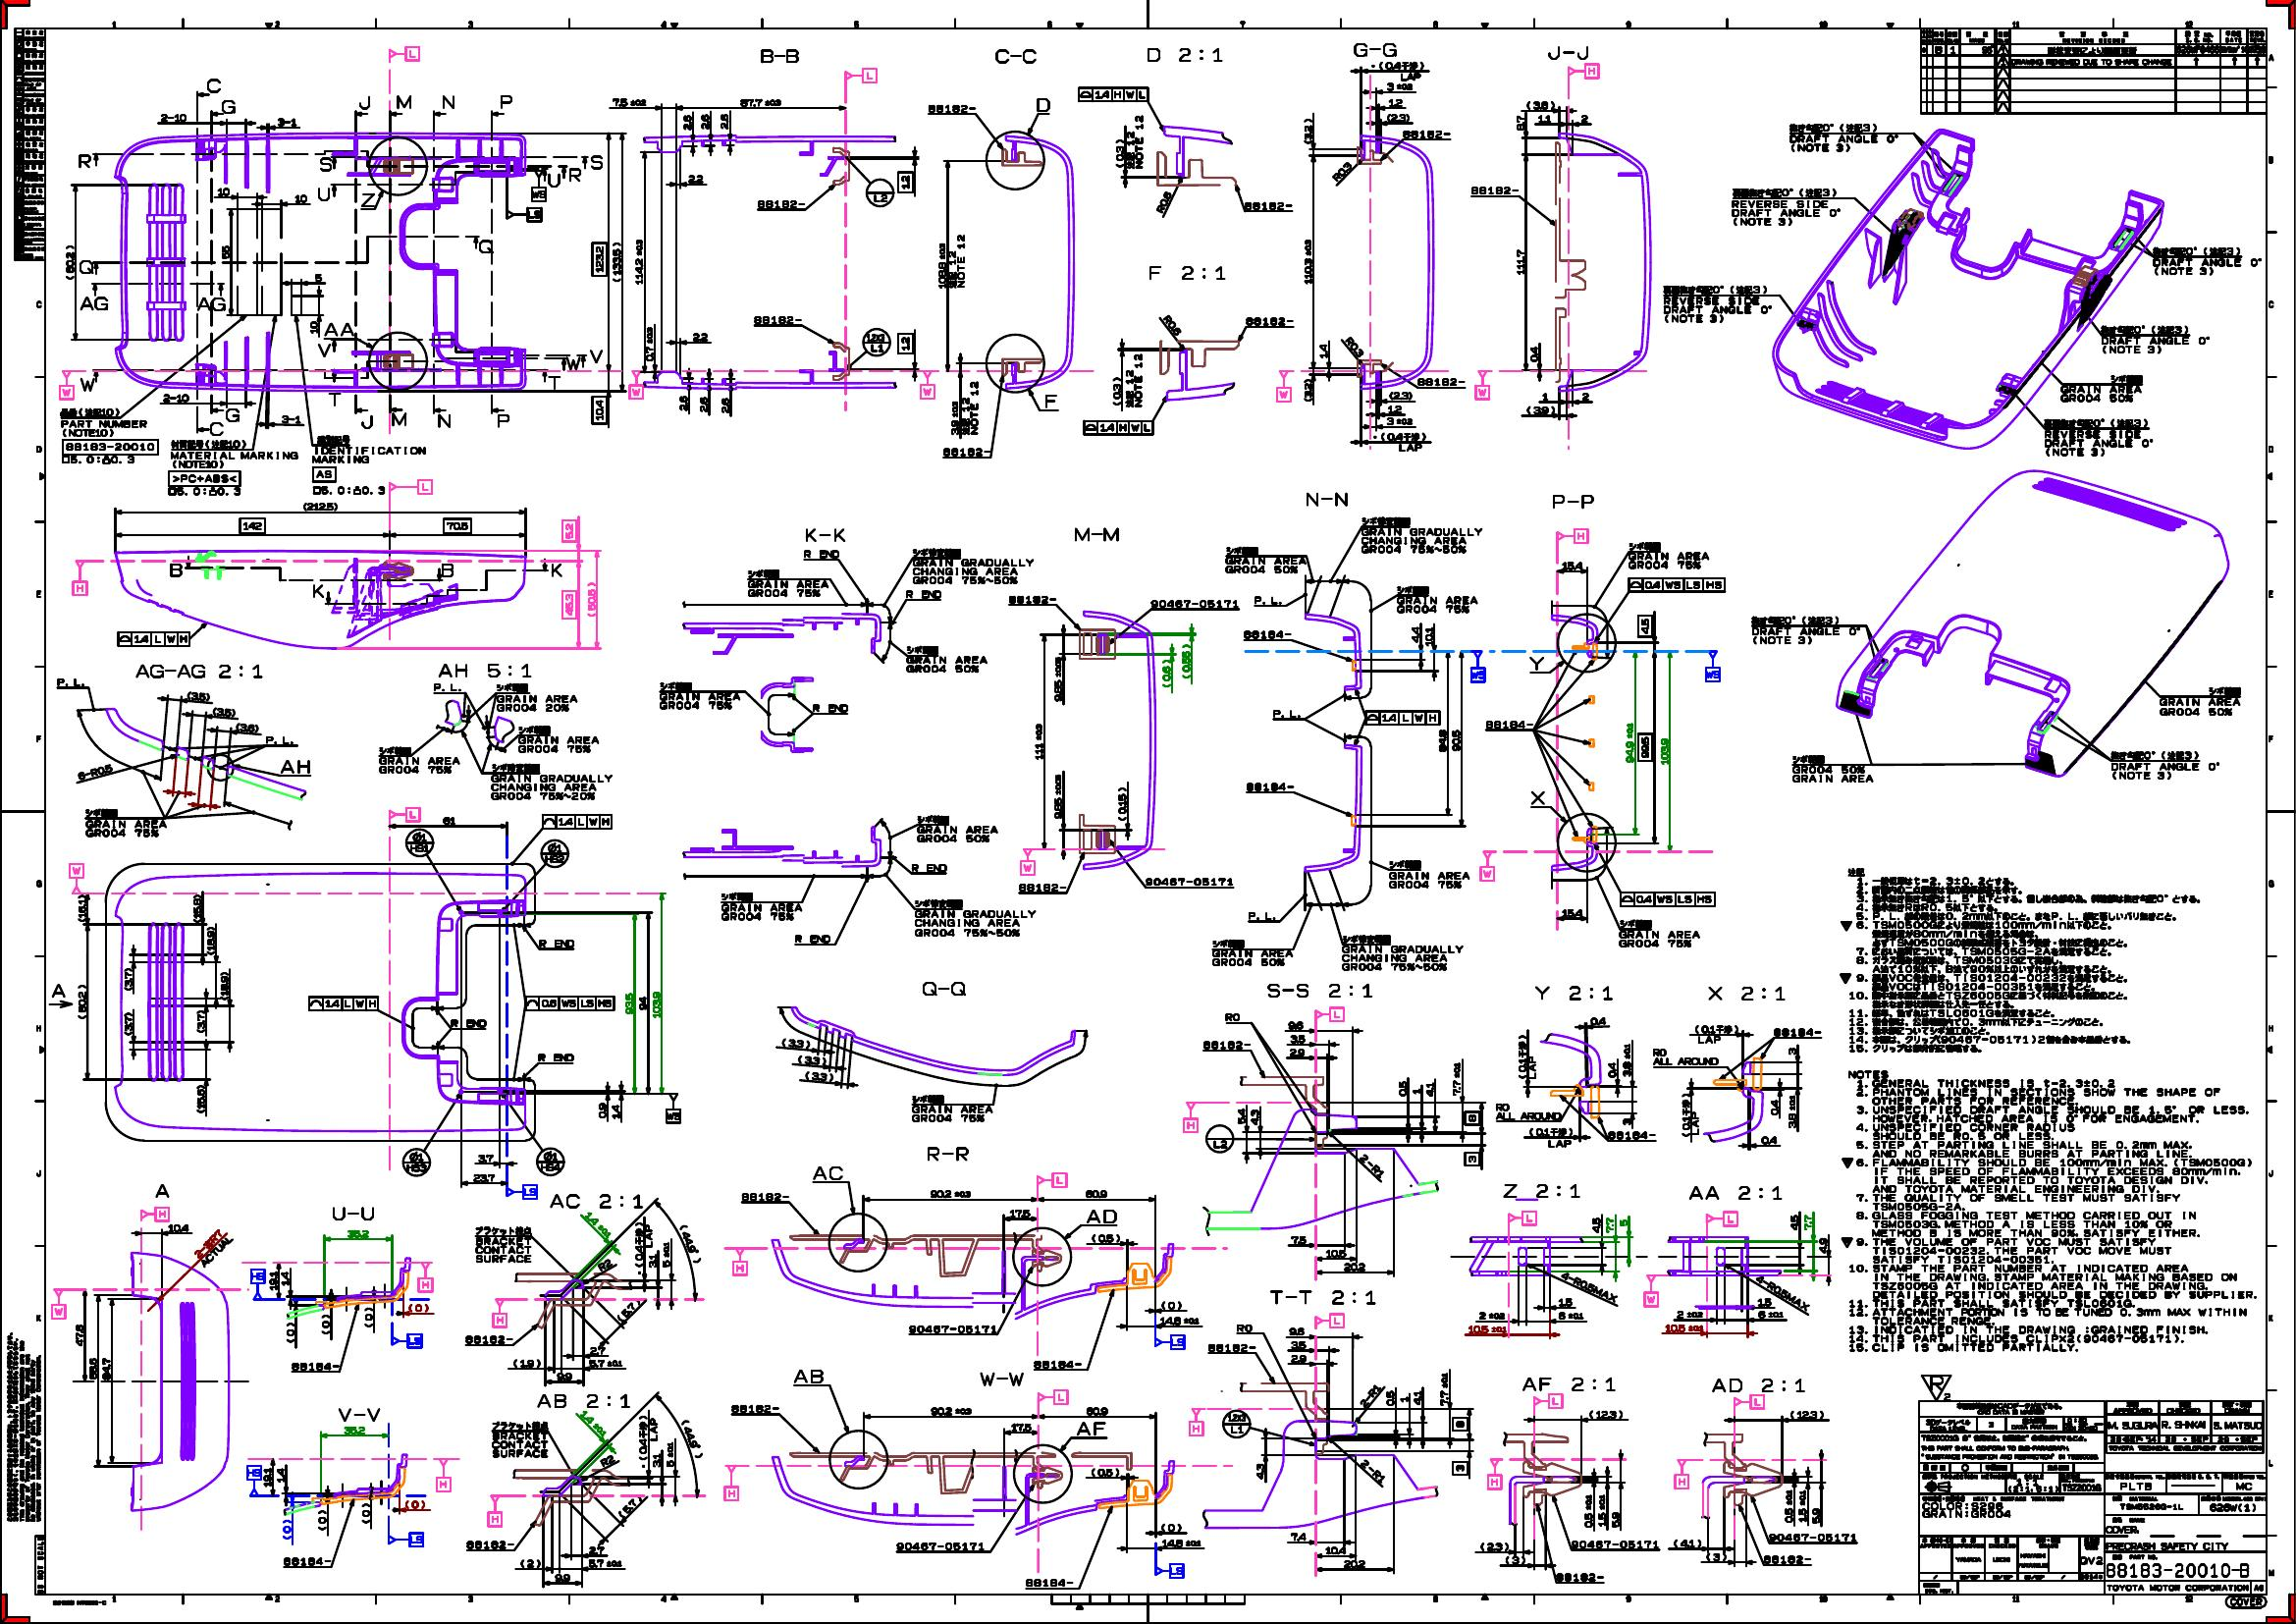anntotation_text: (1839, 1067, 2261, 1352), (1836, 863, 2203, 1056), (311, 432, 429, 497), (167, 439, 299, 497), (4, 1329, 42, 1522), (60, 406, 158, 464), (913, 898, 1038, 939), (1360, 515, 1483, 555), (488, 763, 615, 801), (1340, 933, 1465, 972), (2043, 418, 2154, 460), (1660, 283, 1774, 323), (912, 547, 1036, 584), (1730, 186, 1843, 227), (2110, 749, 2222, 782), (2099, 323, 2212, 355), (1750, 613, 1860, 645), (1788, 123, 1901, 153), (2150, 244, 2263, 274), (83, 805, 167, 838), (2061, 373, 2143, 406), (1618, 917, 1700, 951), (2157, 685, 2243, 717), (495, 682, 580, 714), (905, 643, 989, 675), (1388, 858, 1470, 889), (516, 724, 601, 754), (915, 814, 1000, 844), (657, 680, 741, 710), (1790, 754, 1874, 784), (720, 891, 803, 921), (747, 568, 829, 598), (132, 663, 265, 680), (378, 745, 460, 773), (1397, 585, 1479, 613), (912, 1093, 994, 1121), (1212, 939, 1293, 967), (1224, 547, 1305, 575), (490, 1420, 548, 1459), (1625, 541, 1709, 568), (1268, 1287, 1377, 1306), (1265, 981, 1374, 1000), (474, 1225, 531, 1262), (1709, 1374, 1808, 1394), (1145, 262, 1224, 283), (1688, 1185, 1783, 1202), (1650, 1044, 1722, 1067), (1627, 576, 1725, 592), (1145, 46, 1224, 65), (536, 1394, 631, 1410), (437, 663, 532, 678), (1621, 891, 1716, 907), (1523, 1376, 1616, 1392), (550, 1193, 641, 1209), (1534, 984, 1614, 1002), (1706, 984, 1787, 1002), (523, 995, 613, 1011), (1500, 1183, 1583, 1199), (1765, 1529, 1857, 1543), (908, 1322, 998, 1336), (1372, 431, 1426, 453), (632, 1220, 653, 1276), (1495, 1102, 1562, 1120), (116, 631, 190, 647), (959, 380, 978, 438), (1079, 86, 1149, 102), (307, 995, 378, 1011), (638, 1413, 657, 1469), (1363, 710, 1440, 724), (1126, 112, 1145, 169), (1572, 1538, 1658, 1550), (1123, 353, 1142, 408), (1370, 62, 1425, 81), (1528, 1127, 1574, 1149), (949, 232, 966, 290), (1693, 1023, 1741, 1044), (541, 814, 611, 828), (1082, 420, 1152, 434), (896, 1541, 986, 1552), (1221, 1408, 1251, 1439), (1149, 598, 1238, 608), (399, 1146, 430, 1176), (1920, 1373, 1953, 1401), (1679, 1091, 1700, 1135), (1518, 1033, 1537, 1081), (991, 47, 1042, 65), (539, 838, 569, 868), (861, 327, 891, 357), (404, 828, 434, 858), (536, 1146, 566, 1176), (190, 1237, 232, 1258), (919, 981, 966, 998), (1546, 44, 1592, 62), (1558, 1281, 1623, 1294), (1750, 1287, 1815, 1299), (866, 178, 894, 206), (1205, 1125, 1233, 1153), (1144, 877, 1233, 886), (1351, 40, 1400, 56), (337, 1404, 381, 1422), (330, 1204, 378, 1220), (977, 1371, 1024, 1387), (1073, 526, 1121, 541), (926, 1144, 968, 1162), (33, 1534, 46, 1594), (1303, 490, 1349, 506), (77, 294, 114, 313), (803, 526, 847, 541), (1551, 494, 1593, 510), (1553, 1570, 1606, 1582), (759, 47, 799, 63), (1773, 1025, 1823, 1037), (70, 561, 88, 596), (464, 1332, 513, 1345), (466, 1538, 515, 1550), (1470, 183, 1520, 195), (1484, 717, 1534, 729), (1202, 1039, 1251, 1051), (1607, 1128, 1657, 1141), (487, 1494, 504, 1527), (1704, 650, 1722, 684), (722, 1464, 738, 1501), (942, 445, 989, 457), (757, 199, 805, 211), (283, 1555, 330, 1568), (792, 1367, 824, 1385), (752, 315, 805, 325), (323, 322, 355, 339), (195, 295, 227, 313), (1567, 62, 1599, 79), (279, 758, 311, 775), (1086, 1207, 1117, 1225), (388, 1531, 423, 1547), (388, 480, 432, 492), (729, 1403, 780, 1413), (1207, 1343, 1258, 1353), (1762, 1554, 1813, 1564), (1242, 629, 1293, 640), (1400, 128, 1451, 139), (740, 1192, 791, 1202), (249, 1267, 265, 1301), (1643, 1274, 1658, 1308), (1706, 1211, 1739, 1227), (1556, 527, 1590, 543), (1077, 1420, 1107, 1438), (1314, 1311, 1344, 1329), (919, 369, 936, 399), (508, 1183, 538, 1200), (731, 1246, 748, 1276), (290, 1360, 339, 1371), (1017, 882, 1066, 893), (506, 207, 543, 221), (1244, 200, 1293, 211), (1244, 315, 1293, 325), (1416, 376, 1465, 387), (49, 1598, 107, 1606), (388, 46, 420, 62), (531, 170, 546, 202), (1479, 851, 1495, 882), (388, 807, 420, 823), (1154, 1334, 1186, 1350), (1314, 1005, 1346, 1021), (246, 1464, 262, 1496), (139, 1207, 170, 1223), (908, 861, 949, 874), (416, 1262, 432, 1292), (1188, 1406, 1203, 1436), (1672, 1457, 1688, 1487), (1734, 1394, 1764, 1410), (1507, 1209, 1537, 1225), (1275, 371, 1291, 401), (1474, 369, 1490, 399), (664, 1093, 680, 1123), (1036, 1171, 1066, 1186), (1182, 1102, 1198, 1132), (812, 1165, 845, 1179), (436, 1459, 450, 1492), (1024, 1578, 1075, 1587), (1007, 596, 1058, 605), (926, 104, 977, 112), (1031, 1360, 1082, 1369), (390, 1334, 422, 1348), (1156, 1562, 1184, 1578), (1036, 1388, 1068, 1403), (629, 371, 645, 399), (847, 69, 878, 83), (58, 371, 74, 399), (1472, 650, 1486, 682), (1534, 1394, 1563, 1408), (1486, 1459, 1500, 1489), (69, 863, 83, 893), (1245, 782, 1293, 791), (536, 1053, 574, 1063), (448, 1018, 487, 1028), (51, 1290, 65, 1318), (794, 933, 831, 944), (812, 701, 848, 712), (905, 589, 942, 599), (538, 937, 574, 947), (204, 77, 223, 97), (1021, 849, 1035, 875), (494, 1299, 506, 1327), (54, 677, 83, 689), (307, 582, 325, 601), (546, 561, 564, 580), (545, 172, 564, 190), (207, 418, 227, 436), (77, 374, 95, 394), (358, 192, 376, 211), (432, 682, 464, 692), (1270, 708, 1302, 719), (167, 561, 184, 578), (437, 562, 455, 580), (803, 548, 838, 557), (587, 155, 604, 172), (566, 165, 583, 183), (478, 237, 495, 255), (587, 348, 604, 366), (566, 355, 583, 373), (546, 373, 564, 390), (494, 413, 511, 431), (436, 413, 453, 431), (390, 410, 408, 427), (495, 93, 513, 111), (439, 93, 457, 111), (395, 93, 413, 111), (358, 415, 376, 432), (223, 404, 241, 422), (325, 388, 343, 406), (313, 339, 330, 357), (77, 257, 95, 274), (314, 185, 332, 202), (314, 155, 332, 172), (355, 93, 372, 111), (220, 97, 237, 114), (76, 153, 93, 170), (1247, 910, 1275, 921), (49, 982, 67, 998), (153, 1183, 170, 1199), (1530, 791, 1546, 807), (1254, 596, 1282, 605), (1043, 392, 1058, 410), (265, 735, 293, 743), (1036, 97, 1051, 112), (1530, 656, 1542, 668)
dimension_text: (936, 241, 949, 290), (928, 1404, 973, 1417), (560, 589, 578, 619), (441, 517, 471, 534), (634, 237, 645, 286), (1158, 1313, 1200, 1325), (685, 1418, 697, 1461), (685, 1222, 697, 1264), (1052, 772, 1063, 819), (592, 241, 606, 276), (1303, 239, 1314, 285), (1665, 1322, 1704, 1334), (239, 517, 265, 534), (738, 97, 782, 107), (929, 1188, 973, 1199), (1033, 722, 1045, 759), (1623, 721, 1634, 763), (1637, 733, 1653, 761), (611, 241, 622, 283), (302, 501, 337, 513), (611, 95, 646, 107), (590, 397, 606, 424), (1180, 642, 1191, 680), (1054, 656, 1063, 701), (587, 580, 597, 617), (77, 766, 114, 777), (780, 1037, 812, 1049), (63, 244, 74, 279), (1112, 374, 1123, 410), (1597, 1492, 1607, 1527), (1583, 1492, 1593, 1527), (1161, 1538, 1203, 1547), (615, 1304, 645, 1316), (805, 1070, 834, 1083), (796, 1055, 826, 1067), (1637, 615, 1653, 638), (1467, 1325, 1507, 1334), (1797, 1489, 1808, 1522), (1783, 1489, 1794, 1522), (1439, 1371, 1449, 1404), (1356, 1464, 1390, 1475), (1328, 165, 1356, 178), (1089, 1468, 1121, 1478), (898, 332, 913, 353), (1114, 137, 1124, 169), (1525, 100, 1556, 111), (950, 399, 959, 436), (77, 982, 86, 1019), (1117, 786, 1126, 823), (1788, 1410, 1825, 1418), (574, 1418, 611, 1427), (578, 1218, 615, 1227), (162, 392, 191, 402), (1525, 404, 1555, 415), (191, 893, 202, 923), (195, 1084, 206, 1114), (1354, 1390, 1384, 1401), (615, 1501, 645, 1512), (1588, 1410, 1623, 1418), (587, 1559, 622, 1568), (1451, 1060, 1460, 1095), (1623, 1042, 1632, 1077), (1788, 1093, 1797, 1128), (898, 172, 913, 192), (1560, 559, 1585, 571), (1084, 1186, 1108, 1199), (471, 1171, 495, 1183), (98, 1355, 111, 1380), (562, 520, 576, 541), (1384, 81, 1412, 91), (1514, 248, 1525, 276), (1161, 659, 1172, 687), (652, 990, 662, 1018), (588, 1359, 622, 1367), (206, 924, 214, 956), (664, 1441, 675, 1468), (1558, 1309, 1585, 1320), (1479, 1309, 1505, 1320), (1451, 1461, 1470, 1475), (1384, 417, 1414, 425), (1479, 1541, 1509, 1550), (1091, 1234, 1121, 1243), (1086, 1404, 1107, 1417), (1159, 320, 1184, 330), (285, 1320, 295, 1345), (1660, 736, 1669, 765), (160, 112, 188, 121), (646, 325, 653, 360), (1676, 1309, 1704, 1318), (220, 972, 228, 1000), (77, 895, 86, 923), (1672, 1538, 1700, 1547), (1008, 1422, 1031, 1432), (213, 707, 235, 717), (1159, 1299, 1182, 1309), (1008, 1207, 1031, 1218), (316, 1508, 327, 1531), (1356, 1162, 1390, 1169), (1303, 118, 1312, 144), (1757, 1309, 1783, 1318), (513, 1359, 539, 1367), (281, 413, 302, 424), (276, 116, 297, 127), (235, 722, 256, 733), (188, 691, 209, 701), (1504, 1554, 1525, 1564), (404, 1499, 425, 1510), (320, 1313, 330, 1334), (1465, 1151, 1481, 1165), (360, 1503, 371, 1524), (662, 1243, 671, 1267), (1151, 199, 1175, 207), (1303, 378, 1312, 402), (1342, 341, 1367, 350), (1388, 390, 1412, 399), (1384, 112, 1409, 121), (197, 1009, 206, 1033), (123, 1011, 132, 1035), (123, 967, 132, 991), (1342, 1559, 1367, 1568), (1323, 1545, 1347, 1554), (1342, 1262, 1367, 1271), (624, 991, 632, 1016), (88, 1355, 97, 1380), (682, 112, 692, 132), (1235, 1322, 1254, 1332), (1802, 1213, 1813, 1232), (1788, 1213, 1799, 1232), (1286, 1019, 1305, 1030), (1560, 907, 1583, 916), (1439, 729, 1448, 752), (1451, 729, 1460, 752), (1704, 1552, 1727, 1561), (344, 1425, 367, 1434), (364, 1306, 372, 1329), (408, 1302, 430, 1311), (346, 1229, 369, 1237), (74, 1323, 83, 1346), (167, 1223, 190, 1232), (1465, 1111, 1479, 1125), (1159, 1522, 1180, 1531), (1425, 626, 1433, 647), (690, 332, 708, 343), (720, 397, 731, 415), (1514, 114, 1525, 132), (1289, 1339, 1307, 1350), (1288, 1325, 1305, 1336), (1289, 1531, 1307, 1541), (1254, 1462, 1265, 1480), (279, 1269, 290, 1287), (518, 1559, 539, 1568), (1604, 1216, 1614, 1234), (1289, 1234, 1307, 1244), (1249, 1107, 1260, 1125), (1397, 1079, 1407, 1097), (1590, 1016, 1607, 1026), (264, 1466, 272, 1487), (274, 1466, 285, 1483), (293, 192, 307, 204), (1453, 1418, 1467, 1431), (1558, 1295, 1572, 1308), (269, 1271, 278, 1290), (597, 1100, 606, 1120), (1409, 626, 1419, 642), (699, 112, 710, 128), (687, 172, 703, 183), (678, 395, 689, 411), (1757, 1297, 1773, 1308), (1289, 1033, 1305, 1044), (1224, 1011, 1240, 1021), (1325, 1250, 1347, 1257), (720, 112, 729, 130), (697, 395, 706, 413), (1811, 1506, 1820, 1524), (1611, 1510, 1620, 1527), (1384, 1388, 1393, 1406), (1412, 1388, 1421, 1406), (553, 1573, 571, 1582), (597, 1455, 615, 1464), (555, 1371, 573, 1380), (588, 1346, 606, 1355), (1818, 1236, 1827, 1253), (1592, 1216, 1600, 1234), (1237, 1107, 1245, 1125), (1607, 1060, 1616, 1077), (1760, 1135, 1778, 1144), (1769, 1098, 1778, 1116), (307, 320, 318, 334), (216, 186, 230, 197), (652, 1454, 662, 1468), (283, 1519, 290, 1540), (1318, 343, 1326, 359), (1291, 1353, 1307, 1362), (588, 1545, 604, 1554), (597, 1260, 613, 1269), (1425, 1081, 1433, 1097), (1289, 1048, 1305, 1056), (611, 1104, 620, 1120), (638, 995, 646, 1011), (478, 1153, 494, 1162), (221, 244, 230, 258), (1537, 114, 1551, 123), (648, 1253, 657, 1267), (1386, 406, 1402, 413), (1388, 98, 1404, 105), (1530, 346, 1537, 362), (443, 816, 455, 824), (1541, 390, 1549, 401), (1398, 1394, 1409, 1403), (1618, 1218, 1628, 1227), (314, 272, 323, 281), (1581, 392, 1590, 401), (1412, 1086, 1421, 1095), (1581, 112, 1588, 123), (1788, 1046, 1795, 1056), (1621, 1118, 1630, 1125)
object: (1769, 127, 2166, 452), (1832, 466, 2231, 780), (104, 859, 536, 1142), (111, 128, 527, 394), (639, 132, 898, 390), (682, 601, 892, 877), (111, 548, 527, 650), (1203, 1072, 1439, 1234), (1202, 1380, 1442, 1529), (768, 1234, 1175, 1322), (769, 1448, 1175, 1536), (775, 1004, 1087, 1091), (1553, 130, 1655, 392), (128, 1250, 230, 1512), (1303, 576, 1374, 907), (1156, 123, 1238, 401), (1077, 608, 1158, 872), (1356, 134, 1433, 392), (1000, 134, 1077, 390), (98, 707, 306, 801), (1549, 601, 1609, 884), (1500, 1429, 1585, 1526), (286, 1257, 411, 1322), (283, 1452, 408, 1517), (1700, 1431, 1785, 1522), (508, 1468, 631, 1527), (511, 1271, 618, 1327), (1539, 1028, 1606, 1118), (1700, 1058, 1765, 1142), (1664, 1234, 1785, 1278), (1465, 1234, 1585, 1278), (441, 700, 516, 750)
title_block: (1918, 1399, 2268, 1594), (1918, 28, 2266, 114), (12, 26, 46, 258)
